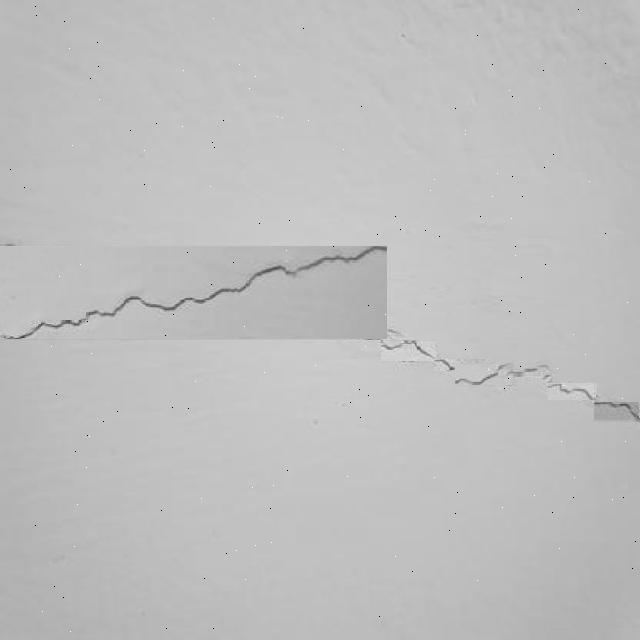crack: (0, 243, 387, 340), (380, 326, 639, 423)
